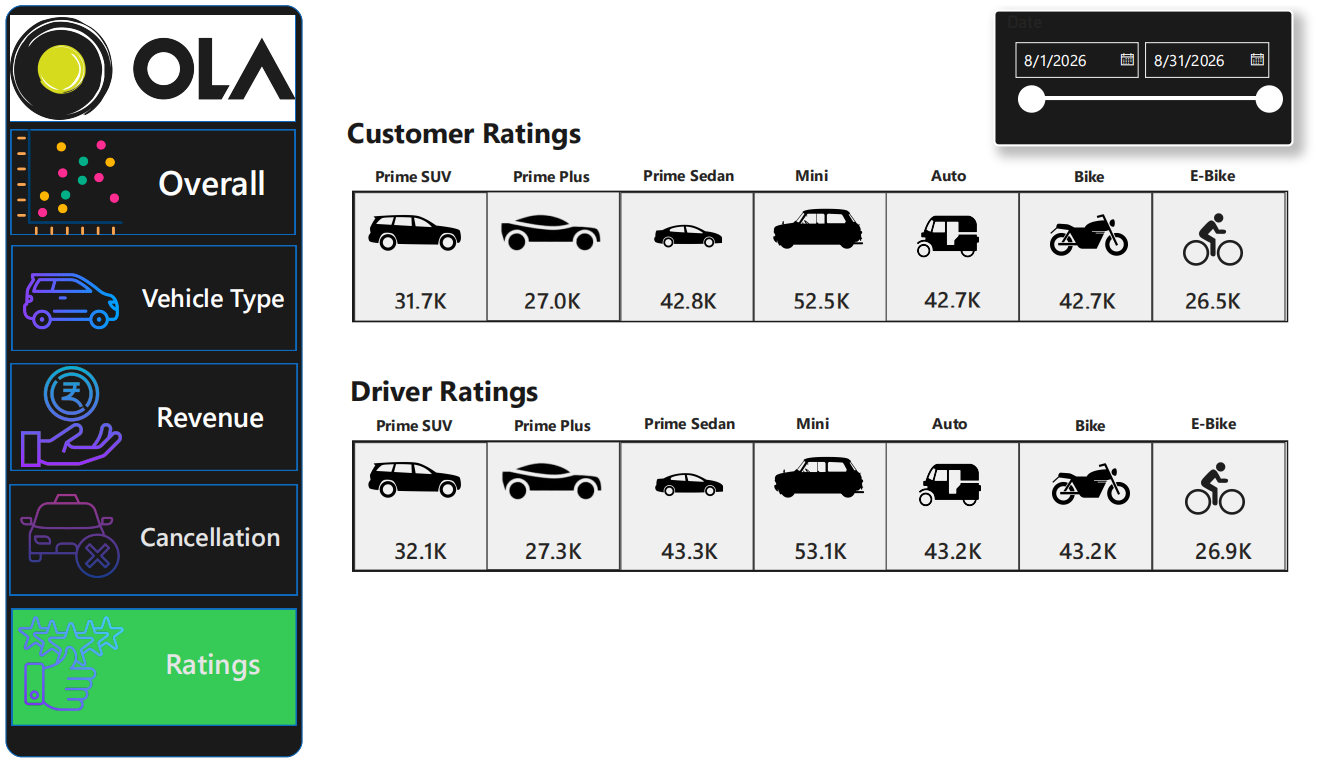

What the dashboard file says about the page in this screenshot:
{"tool":"powerbi","page":{"name":"Ratings","canvas":[1280,720],"ordinal":4},"visuals":[{"type":"shape","box":[9.6,0,282,714],"z":0},{"type":"shape","box":[15,9.6,270,100.2],"z":1000},{"type":"image","box":[15.1,9.6,270.3,100.2],"z":2000},{"type":"shape","box":[15.1,118.4,270,100.2],"z":3000},{"type":"image","box":[15.1,118,112.5,100.2],"z":4000},{"type":"textbox","box":[127.6,140,157.8,56.3],"z":5000},{"type":"shape","box":[16.3,228.3,270,100.2],"z":6000},{"type":"textbox","box":[129,255.2,157.8,50.8],"z":7000},{"type":"image","box":[16.5,227.8,112.5,100.2],"z":8000},{"type":"shape","box":[15.1,340.3,272,102],"z":9000},{"type":"textbox","box":[126.2,366.4,157.8,50.8],"z":10000},{"type":"image","box":[16,343,112.5,95],"z":11000},{"type":"shape","box":[13.7,455,273,105],"z":12000},{"type":"image","box":[15.1,454,112.5,100.2],"z":13000},{"type":"textbox","box":[126.2,481.6,157.8,50.8],"z":14000},{"type":"shape","box":[16.5,573,270.3,111],"z":15000},{"type":"textbox","box":[127.6,601,157.8,50.8],"z":16000},{"type":"image","box":[16.5,575,112.5,100.2],"z":17000},{"type":"actionButton","box":[16.5,118,267.6,100.2],"z":18000},{"type":"actionButton","box":[17.8,227.8,267.6,100.2],"z":19000},{"type":"actionButton","box":[16.5,343.1,270.3,100.2],"z":20000},{"type":"actionButton","box":[17.8,454.2,267.6,104.3],"z":21000},{"type":"image","box":[339.1,175.9,888.9,125.2],"z":22000},{"type":"textbox","box":[599,145.8,120.4,39.6],"z":23000},{"type":"textbox","box":[469,147.4,118.8,39.6],"z":24000},{"type":"textbox","box":[337.5,147,118.8,39.6],"z":25000},{"type":"textbox","box":[736.8,145.8,77.6,31.7],"z":26000},{"type":"image","box":[469,175.9,110.9,71.3],"z":27000},{"type":"textbox","box":[869.9,145.8,72.9,33.3],"z":28000},{"type":"image","box":[736.8,182.2,88.7,58.6],"z":29000},{"type":"textbox","box":[1003,147.4,72.9,33.3],"z":30000},{"type":"image","box":[852.5,190.1,106.2,58.6],"z":31000},{"type":"image","box":[982.4,182.2,112.5,72.9],"z":32000},{"type":"image","box":[1094.6,195.2,123.6,55.5],"z":33000},{"type":"image","box":[299.5,171.1,199.7,88.7],"z":34000},{"type":"image","box":[559.3,185.4,198.1,68.1],"z":35000},{"type":"textbox","box":[1120.3,145.8,72.9,33.3],"z":36000},{"type":"image","box":[338.6,413.1,888.9,125.2],"z":37000},{"type":"textbox","box":[600.1,381.4,120.4,39.6],"z":38000},{"type":"textbox","box":[470.2,383,118.8,39.6],"z":39000},{"type":"textbox","box":[338.6,382.6,118.8,39.6],"z":40000},{"type":"textbox","box":[737.9,381.4,77.6,31.7],"z":41000},{"type":"image","box":[470.2,411.5,110.9,71.3],"z":42000},{"type":"textbox","box":[871,381.4,72.9,33.3],"z":43000},{"type":"image","box":[737.9,417.9,88.7,58.6],"z":44000},{"type":"textbox","box":[1004.2,383,72.9,33.3],"z":45000},{"type":"image","box":[853.6,425.8,106.2,58.6],"z":46000},{"type":"image","box":[983.6,417.9,112.5,72.9],"z":47000},{"type":"image","box":[1095.7,430.9,123.6,55.5],"z":48000},{"type":"image","box":[560.5,421,198.1,68.1],"z":49000},{"type":"textbox","box":[1121.4,381.4,72.9,33.3],"z":50000},{"type":"image","box":[299.5,406,199.7,88.7],"z":51000},{"type":"cardVisual","fields":{"Data":["Sum(OLA_Data.Driver_Ratings)"]},"box":[350.2,488,117,55.5],"z":52000},{"type":"textbox","box":[329.6,91,454.8,60.2],"z":53000},{"type":"textbox","box":[332.8,335.9,454.8,60.2],"z":54000},{"type":"cardVisual","fields":{"Data":["Sum(OLA_Data.Customer_Rating)"]},"box":[473.8,250.4,117,55.5],"z":55000},{"type":"cardVisual","fields":{"Data":["Sum(OLA_Data.Customer_Rating)"]},"box":[603,250,117,55.5],"z":56000},{"type":"cardVisual","fields":{"Data":["Sum(OLA_Data.Customer_Rating)"]},"box":[728.9,250,117,55.5],"z":57000},{"type":"cardVisual","fields":{"Data":["Sum(OLA_Data.Customer_Rating)"]},"box":[854.1,248.8,121,55.5],"z":58000},{"type":"cardVisual","fields":{"Data":["Sum(OLA_Data.Customer_Rating)"]},"box":[982.4,250.4,118.8,55.5],"z":59000},{"type":"cardVisual","fields":{"Data":["Sum(OLA_Data.Customer_Rating)"]},"box":[1101,250.4,131.5,55.5],"z":60000},{"type":"cardVisual","fields":{"Data":["Sum(OLA_Data.Customer_Rating)"]},"box":[350.2,250,117,55.5],"z":60001},{"type":"cardVisual","fields":{"Data":["Sum(OLA_Data.Driver_Ratings)"]},"box":[475.4,488,117,55.5],"z":60002},{"type":"cardVisual","fields":{"Data":["Sum(OLA_Data.Driver_Ratings)"]},"box":[603.7,488,117,55.5],"z":60003},{"type":"cardVisual","fields":{"Data":["Sum(OLA_Data.Driver_Ratings)"]},"box":[730.5,488,117,55.5],"z":60004},{"type":"cardVisual","fields":{"Data":["Sum(OLA_Data.Driver_Ratings)"]},"box":[854.1,488,117,55.5],"z":60005},{"type":"cardVisual","fields":{"Data":["Sum(OLA_Data.Driver_Ratings)"]},"box":[982.4,488,117,55.5],"z":60006},{"type":"cardVisual","fields":{"Data":["Sum(OLA_Data.Driver_Ratings)"]},"box":[1110.8,488,117,55.5],"z":60007},{"type":"slicer","title":"Date","fields":{"Values":["OLA_Data.Date"]},"box":[948,4,285.2,129.9],"z":60008}]}

Visuals, with their boxes in screenshot pixels (x1, y1, x2, y2), scaled from the page's 1280x720 canvas onto the 1342x766 screenshot:
shape: box=[10, 0, 306, 760]
shape: box=[16, 10, 299, 117]
image: box=[16, 10, 299, 117]
shape: box=[16, 126, 299, 233]
image: box=[16, 126, 134, 232]
textbox: box=[134, 149, 299, 209]
shape: box=[17, 243, 300, 349]
textbox: box=[135, 272, 301, 326]
image: box=[17, 242, 135, 349]
shape: box=[16, 362, 301, 471]
textbox: box=[132, 390, 298, 444]
image: box=[17, 365, 135, 466]
shape: box=[14, 484, 301, 596]
image: box=[16, 483, 134, 590]
textbox: box=[132, 512, 298, 566]
shape: box=[17, 610, 301, 728]
textbox: box=[134, 639, 299, 693]
image: box=[17, 612, 135, 718]
actionButton: box=[17, 126, 298, 232]
actionButton: box=[19, 242, 299, 349]
actionButton: box=[17, 365, 301, 472]
actionButton: box=[19, 483, 299, 594]
image: box=[356, 187, 1287, 320]
textbox: box=[628, 155, 754, 197]
textbox: box=[492, 157, 616, 199]
textbox: box=[354, 156, 478, 199]
textbox: box=[772, 155, 854, 189]
image: box=[492, 187, 608, 263]
textbox: box=[912, 155, 988, 191]
image: box=[772, 194, 865, 256]
textbox: box=[1052, 157, 1128, 192]
image: box=[894, 202, 1005, 265]
image: box=[1030, 194, 1148, 271]
image: box=[1148, 208, 1277, 267]
image: box=[314, 182, 523, 276]
image: box=[586, 197, 794, 270]
textbox: box=[1175, 155, 1251, 191]
image: box=[355, 439, 1287, 573]
textbox: box=[629, 406, 755, 448]
textbox: box=[493, 407, 618, 450]
textbox: box=[355, 407, 480, 449]
textbox: box=[774, 406, 855, 439]
image: box=[493, 438, 609, 514]
textbox: box=[913, 406, 990, 441]
image: box=[774, 445, 867, 507]
textbox: box=[1053, 407, 1129, 443]
image: box=[895, 453, 1006, 515]
image: box=[1031, 445, 1149, 522]
image: box=[1149, 458, 1278, 517]
image: box=[588, 448, 795, 520]
textbox: box=[1176, 406, 1252, 441]
image: box=[314, 432, 523, 526]
cardVisual - Sum(OLA_Data.Driver_Ratings): box=[367, 519, 490, 578]
textbox: box=[346, 97, 822, 161]
textbox: box=[349, 357, 826, 421]
cardVisual - Sum(OLA_Data.Customer_Rating): box=[497, 266, 619, 325]
cardVisual - Sum(OLA_Data.Customer_Rating): box=[632, 266, 755, 325]
cardVisual - Sum(OLA_Data.Customer_Rating): box=[764, 266, 887, 325]
cardVisual - Sum(OLA_Data.Customer_Rating): box=[895, 265, 1022, 324]
cardVisual - Sum(OLA_Data.Customer_Rating): box=[1030, 266, 1155, 325]
cardVisual - Sum(OLA_Data.Customer_Rating): box=[1154, 266, 1292, 325]
cardVisual - Sum(OLA_Data.Customer_Rating): box=[367, 266, 490, 325]
cardVisual - Sum(OLA_Data.Driver_Ratings): box=[498, 519, 621, 578]
cardVisual - Sum(OLA_Data.Driver_Ratings): box=[633, 519, 756, 578]
cardVisual - Sum(OLA_Data.Driver_Ratings): box=[766, 519, 889, 578]
cardVisual - Sum(OLA_Data.Driver_Ratings): box=[895, 519, 1018, 578]
cardVisual - Sum(OLA_Data.Driver_Ratings): box=[1030, 519, 1153, 578]
cardVisual - Sum(OLA_Data.Driver_Ratings): box=[1165, 519, 1287, 578]
"Date" slicer: box=[994, 4, 1293, 142]
